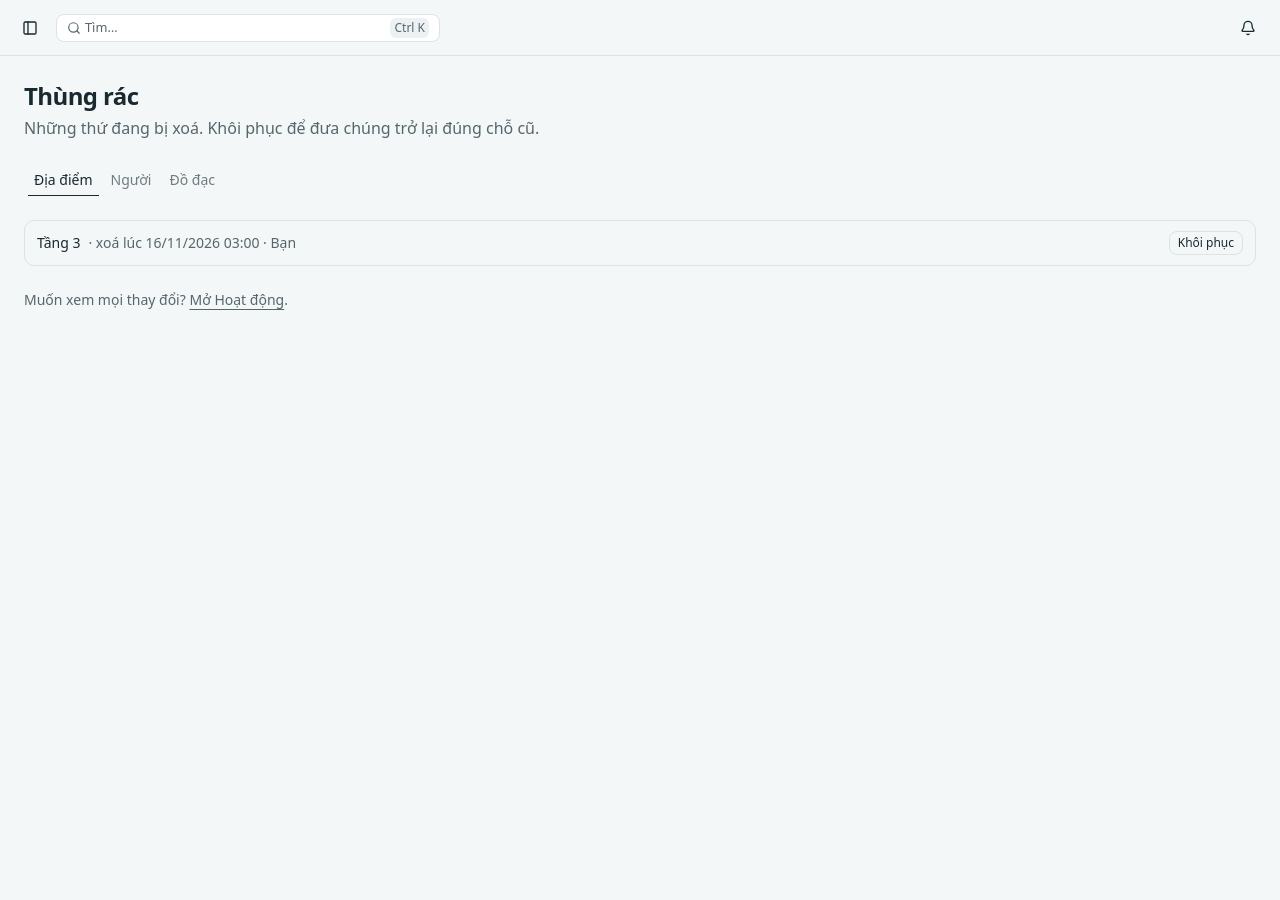
Test: restoringRemovesTheRowAndSaysSo
Click the button with aria-label "Khôi phục Tầng 3".
click(1206, 243)  # box x1=1169 y1=231 x2=1243 y2=255
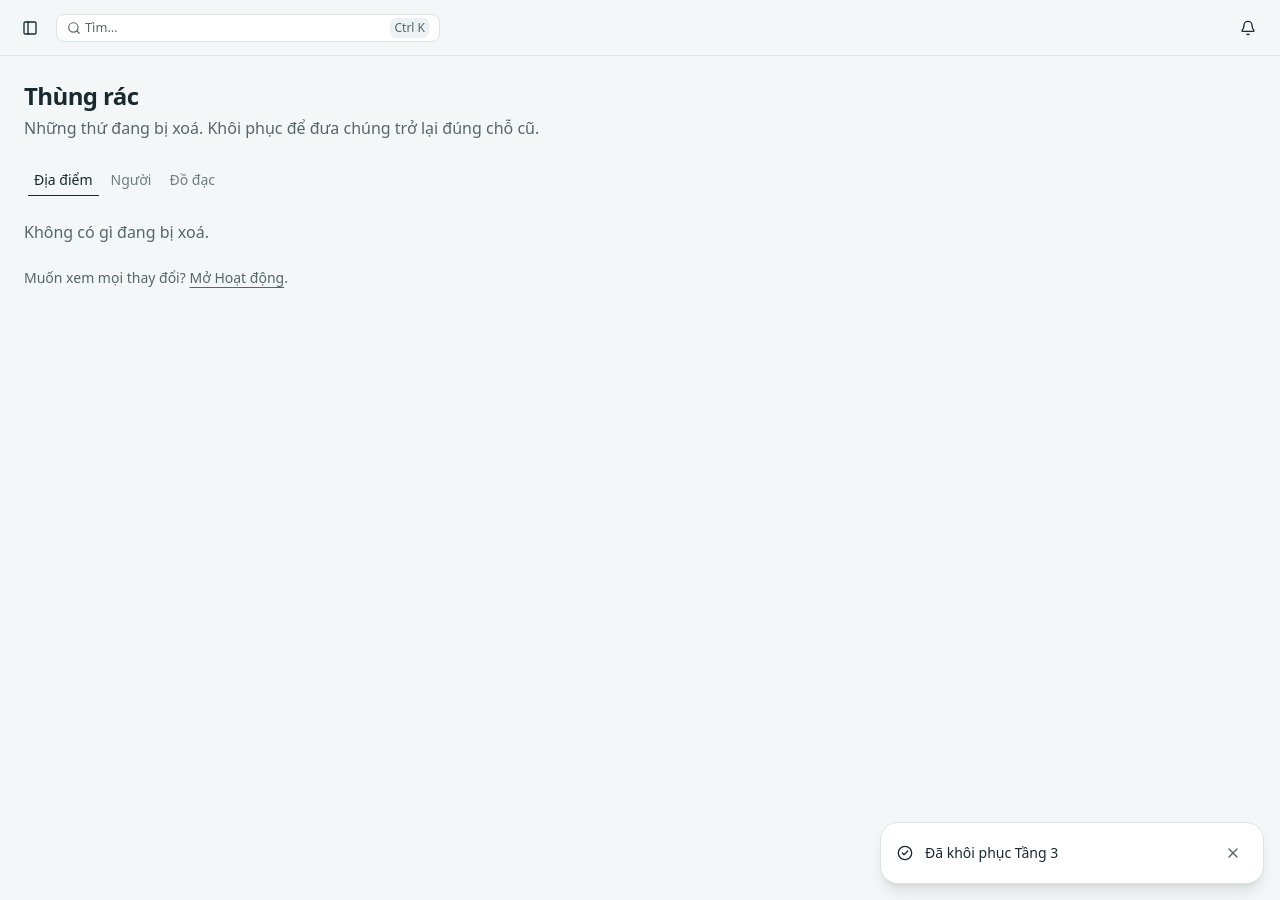
expect the heading "Đã khôi phục Tầng 3" is shown: met, box x1=925 y1=843 x2=1058 y2=862
